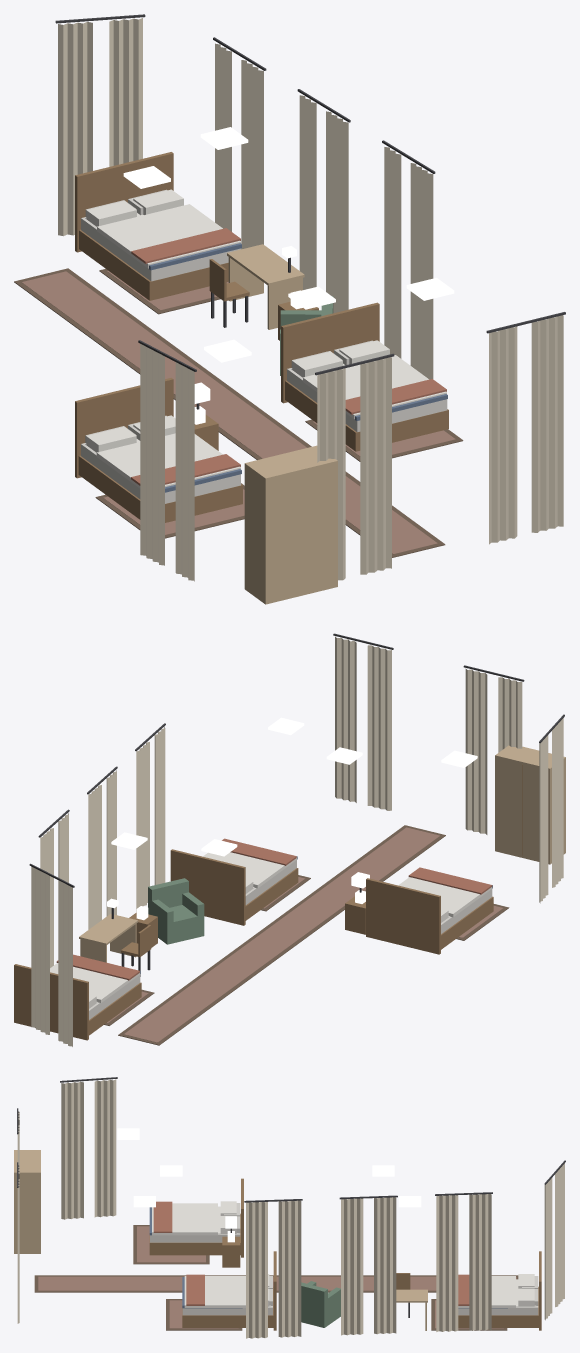
File: fine-s1.glb
The picture shows the model from 3 angles, top to bottom: view 1: azimuth 30°, elevation 25°; view 2: azimuth 150°, elevation 25°; view 3: azimuth 270°, elevation 25°; orthographic projection. The views are drawn at different scales.
Visible parts, largest first — view 1: soft-s1, dresser.000, bed-frame.001, bed-frame.002, bed-frame.000, writing-desk.000, cafe-chair.000, nightstand.000; view 2: soft-s1, bed-frame.000, dresser.000, bed-frame.002, bed-frame.001, lounge-chair.000, writing-desk.000, nightstand.000, cafe-chair.000, side-table.000; view 3: soft-s1, dresser.000, bed-frame.000, bed-frame.002, bed-frame.001, lounge-chair.000, nightstand.000, writing-desk.000.
Boxes of the visible parts, x1=… form: soft-s1: x1=14, y1=14, x2=565, y2=581; dresser.000: x1=244, y1=445, x2=337, y2=604; bed-frame.001: x1=75, y1=152, x2=241, y2=300; bed-frame.002: x1=281, y1=302, x2=448, y2=451; bed-frame.000: x1=75, y1=377, x2=242, y2=522; writing-desk.000: x1=227, y1=244, x2=304, y2=329; cafe-chair.000: x1=209, y1=259, x2=249, y2=327; nightstand.000: x1=194, y1=406, x2=218, y2=450; soft-s1: x1=29, y1=633, x2=564, y2=1046; bed-frame.000: x1=366, y1=878, x2=493, y2=954; dresser.000: x1=495, y1=745, x2=565, y2=864; bed-frame.002: x1=170, y1=849, x2=298, y2=925; bed-frame.001: x1=14, y1=964, x2=141, y2=1040; lounge-chair.000: x1=148, y1=878, x2=204, y2=944; writing-desk.000: x1=79, y1=898, x2=138, y2=962; nightstand.000: x1=345, y1=890, x2=365, y2=934; cafe-chair.000: x1=121, y1=925, x2=151, y2=976; side-table.000: x1=129, y1=906, x2=157, y2=947; soft-s1: x1=17, y1=1077, x2=565, y2=1338; dresser.000: x1=14, y1=1150, x2=40, y2=1253; bed-frame.000: x1=149, y1=1178, x2=243, y2=1257; bed-frame.002: x1=182, y1=1251, x2=276, y2=1330; bed-frame.001: x1=458, y1=1251, x2=541, y2=1330; lounge-chair.000: x1=301, y1=1281, x2=340, y2=1327; nightstand.000: x1=222, y1=1231, x2=240, y2=1267; writing-desk.000: x1=396, y1=1289, x2=427, y2=1330.
Bounding box in the file's own units: 6.57 × 3.44 × 12.32.
